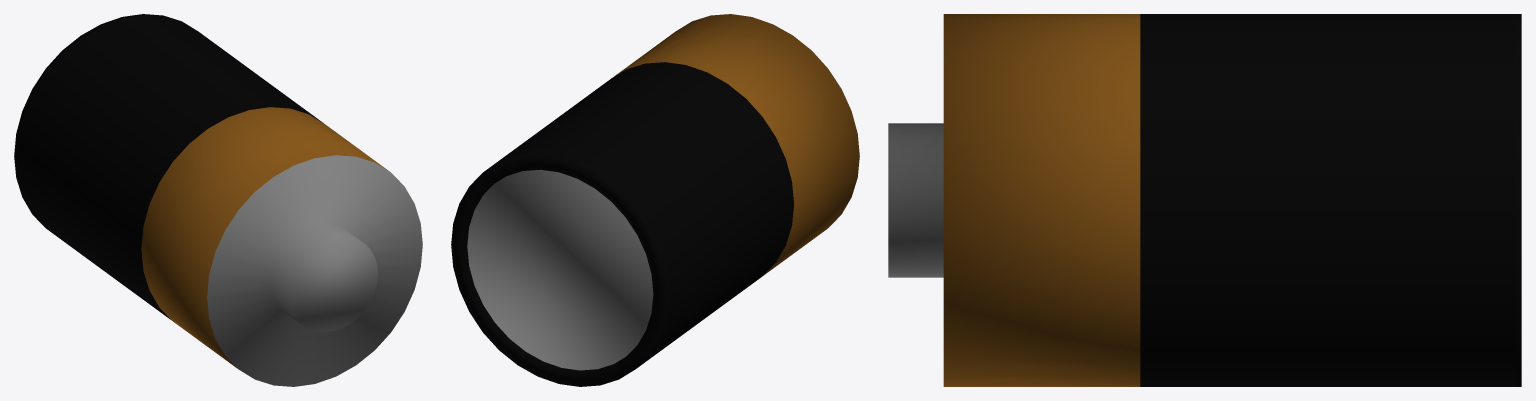
Rendered from Pil.fbx.
3 renders of one model, left to right at view 1: azimuth 30°, elevation 25°; view 2: azimuth 150°, elevation 25°; view 3: azimuth 270°, elevation 25°, orthographic. The views are drawn at different scales.
Visible parts, largest first — view 1: Cylinder; view 2: Cylinder; view 3: Cylinder.
Boxes of the visible parts, x1=… form: Cylinder: x1=14, y1=14, x2=422, y2=386; Cylinder: x1=451, y1=14, x2=859, y2=386; Cylinder: x1=888, y1=14, x2=1521, y2=386.
Size of the model in its own units: 41.55 by 41.55 by 70.49.
